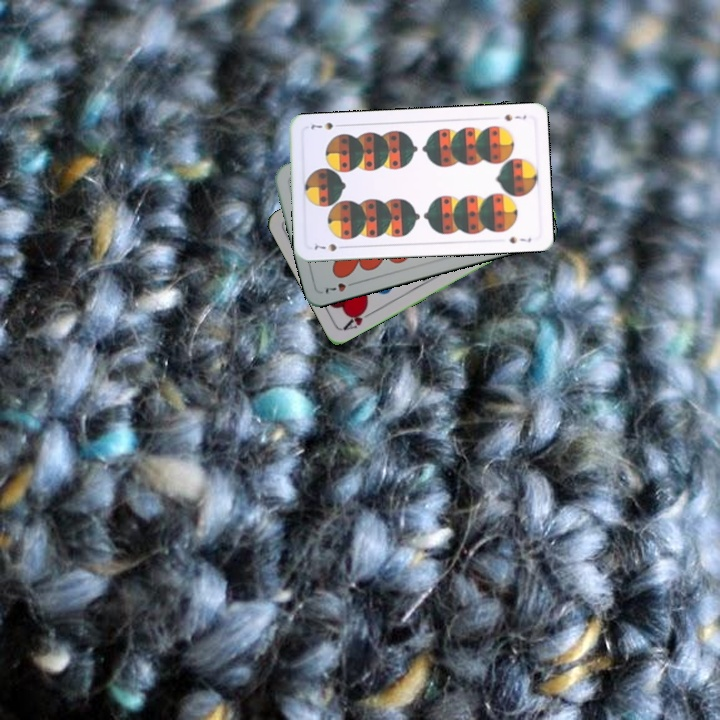H7: (321, 278, 359, 297)
HA: (339, 303, 377, 333)
S7: (310, 239, 349, 254), (500, 110, 529, 124)
